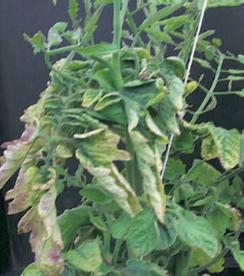Tomato leaf yellow virus: (76, 130, 144, 217), (204, 115, 242, 179), (177, 202, 218, 258), (125, 206, 162, 258), (68, 239, 108, 274), (194, 0, 243, 16)
